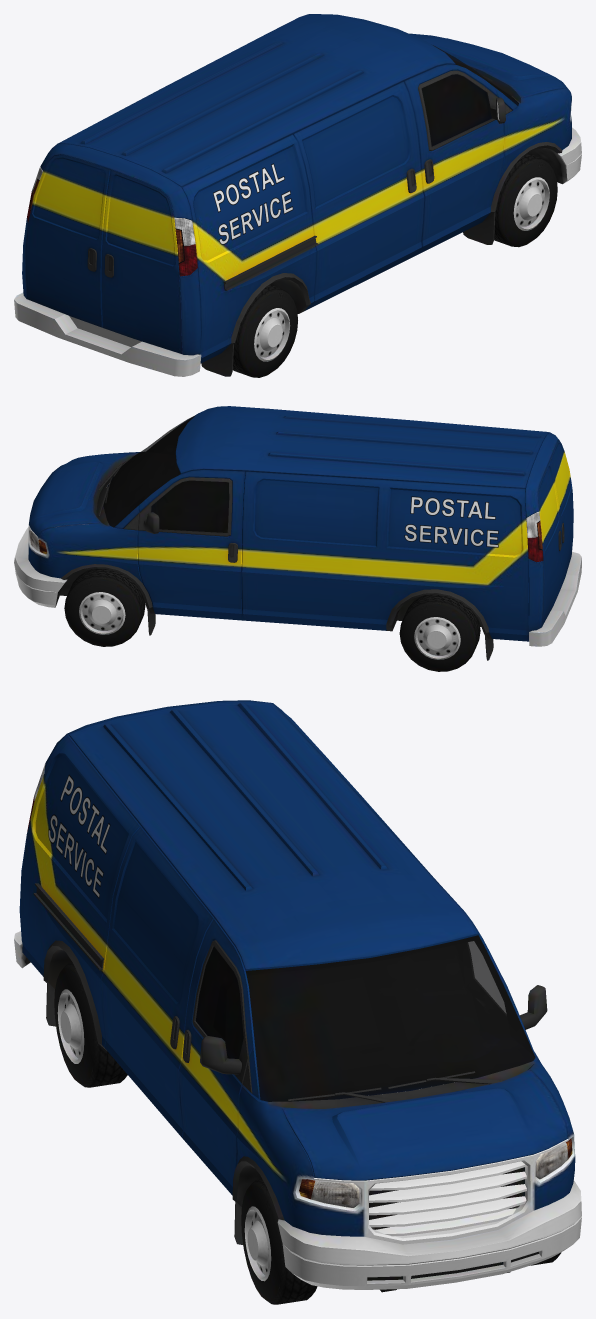
File: cs_postvan.glb
3 views of the same model, one above another, from view 1: azimuth 30°, elevation 25°; view 2: azimuth 150°, elevation 25°; view 3: azimuth 270°, elevation 25° (orthographic). The views are drawn at different scales.
Visible parts, largest first — view 1: postvan; view 2: postvan; view 3: postvan.
Boxes of the visible parts, x1,y1,x2,y2 form: postvan: [14, 14, 581, 377]; postvan: [14, 406, 581, 671]; postvan: [14, 700, 581, 1304].
Size of the model in its own units: 5.37 by 1.98 by 3.36.
4 materials, 4 textured.
